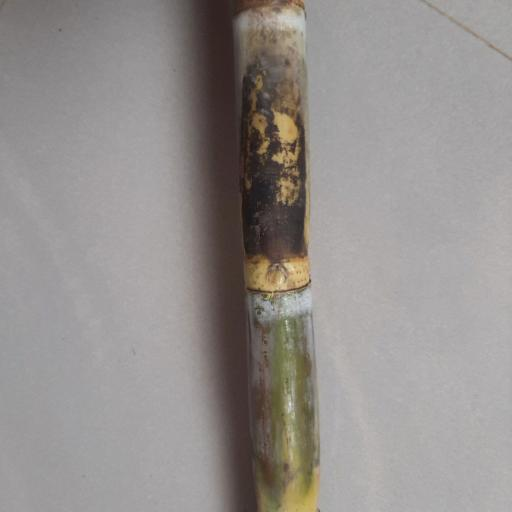Bud: (265, 265, 289, 292)
